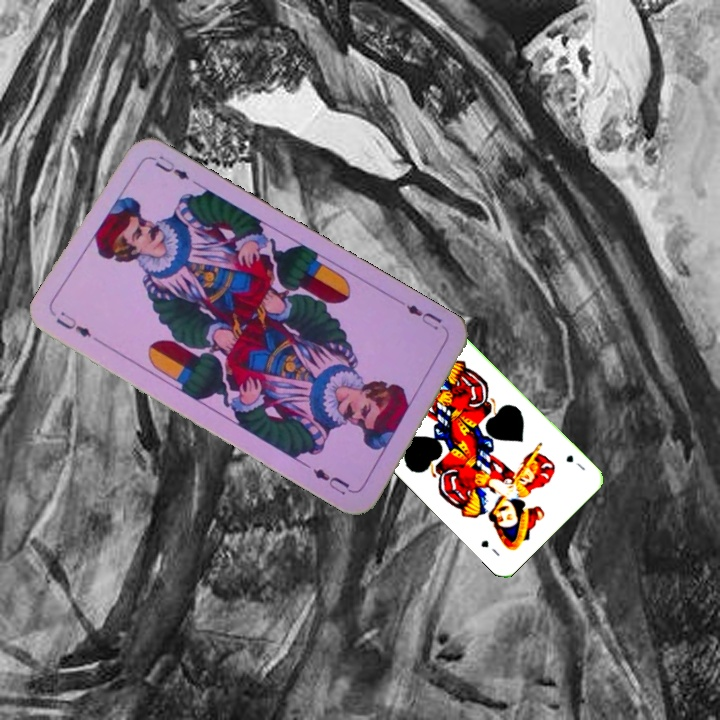EU: (401, 300, 450, 334), (52, 307, 95, 340)
GU: (562, 451, 588, 473)
